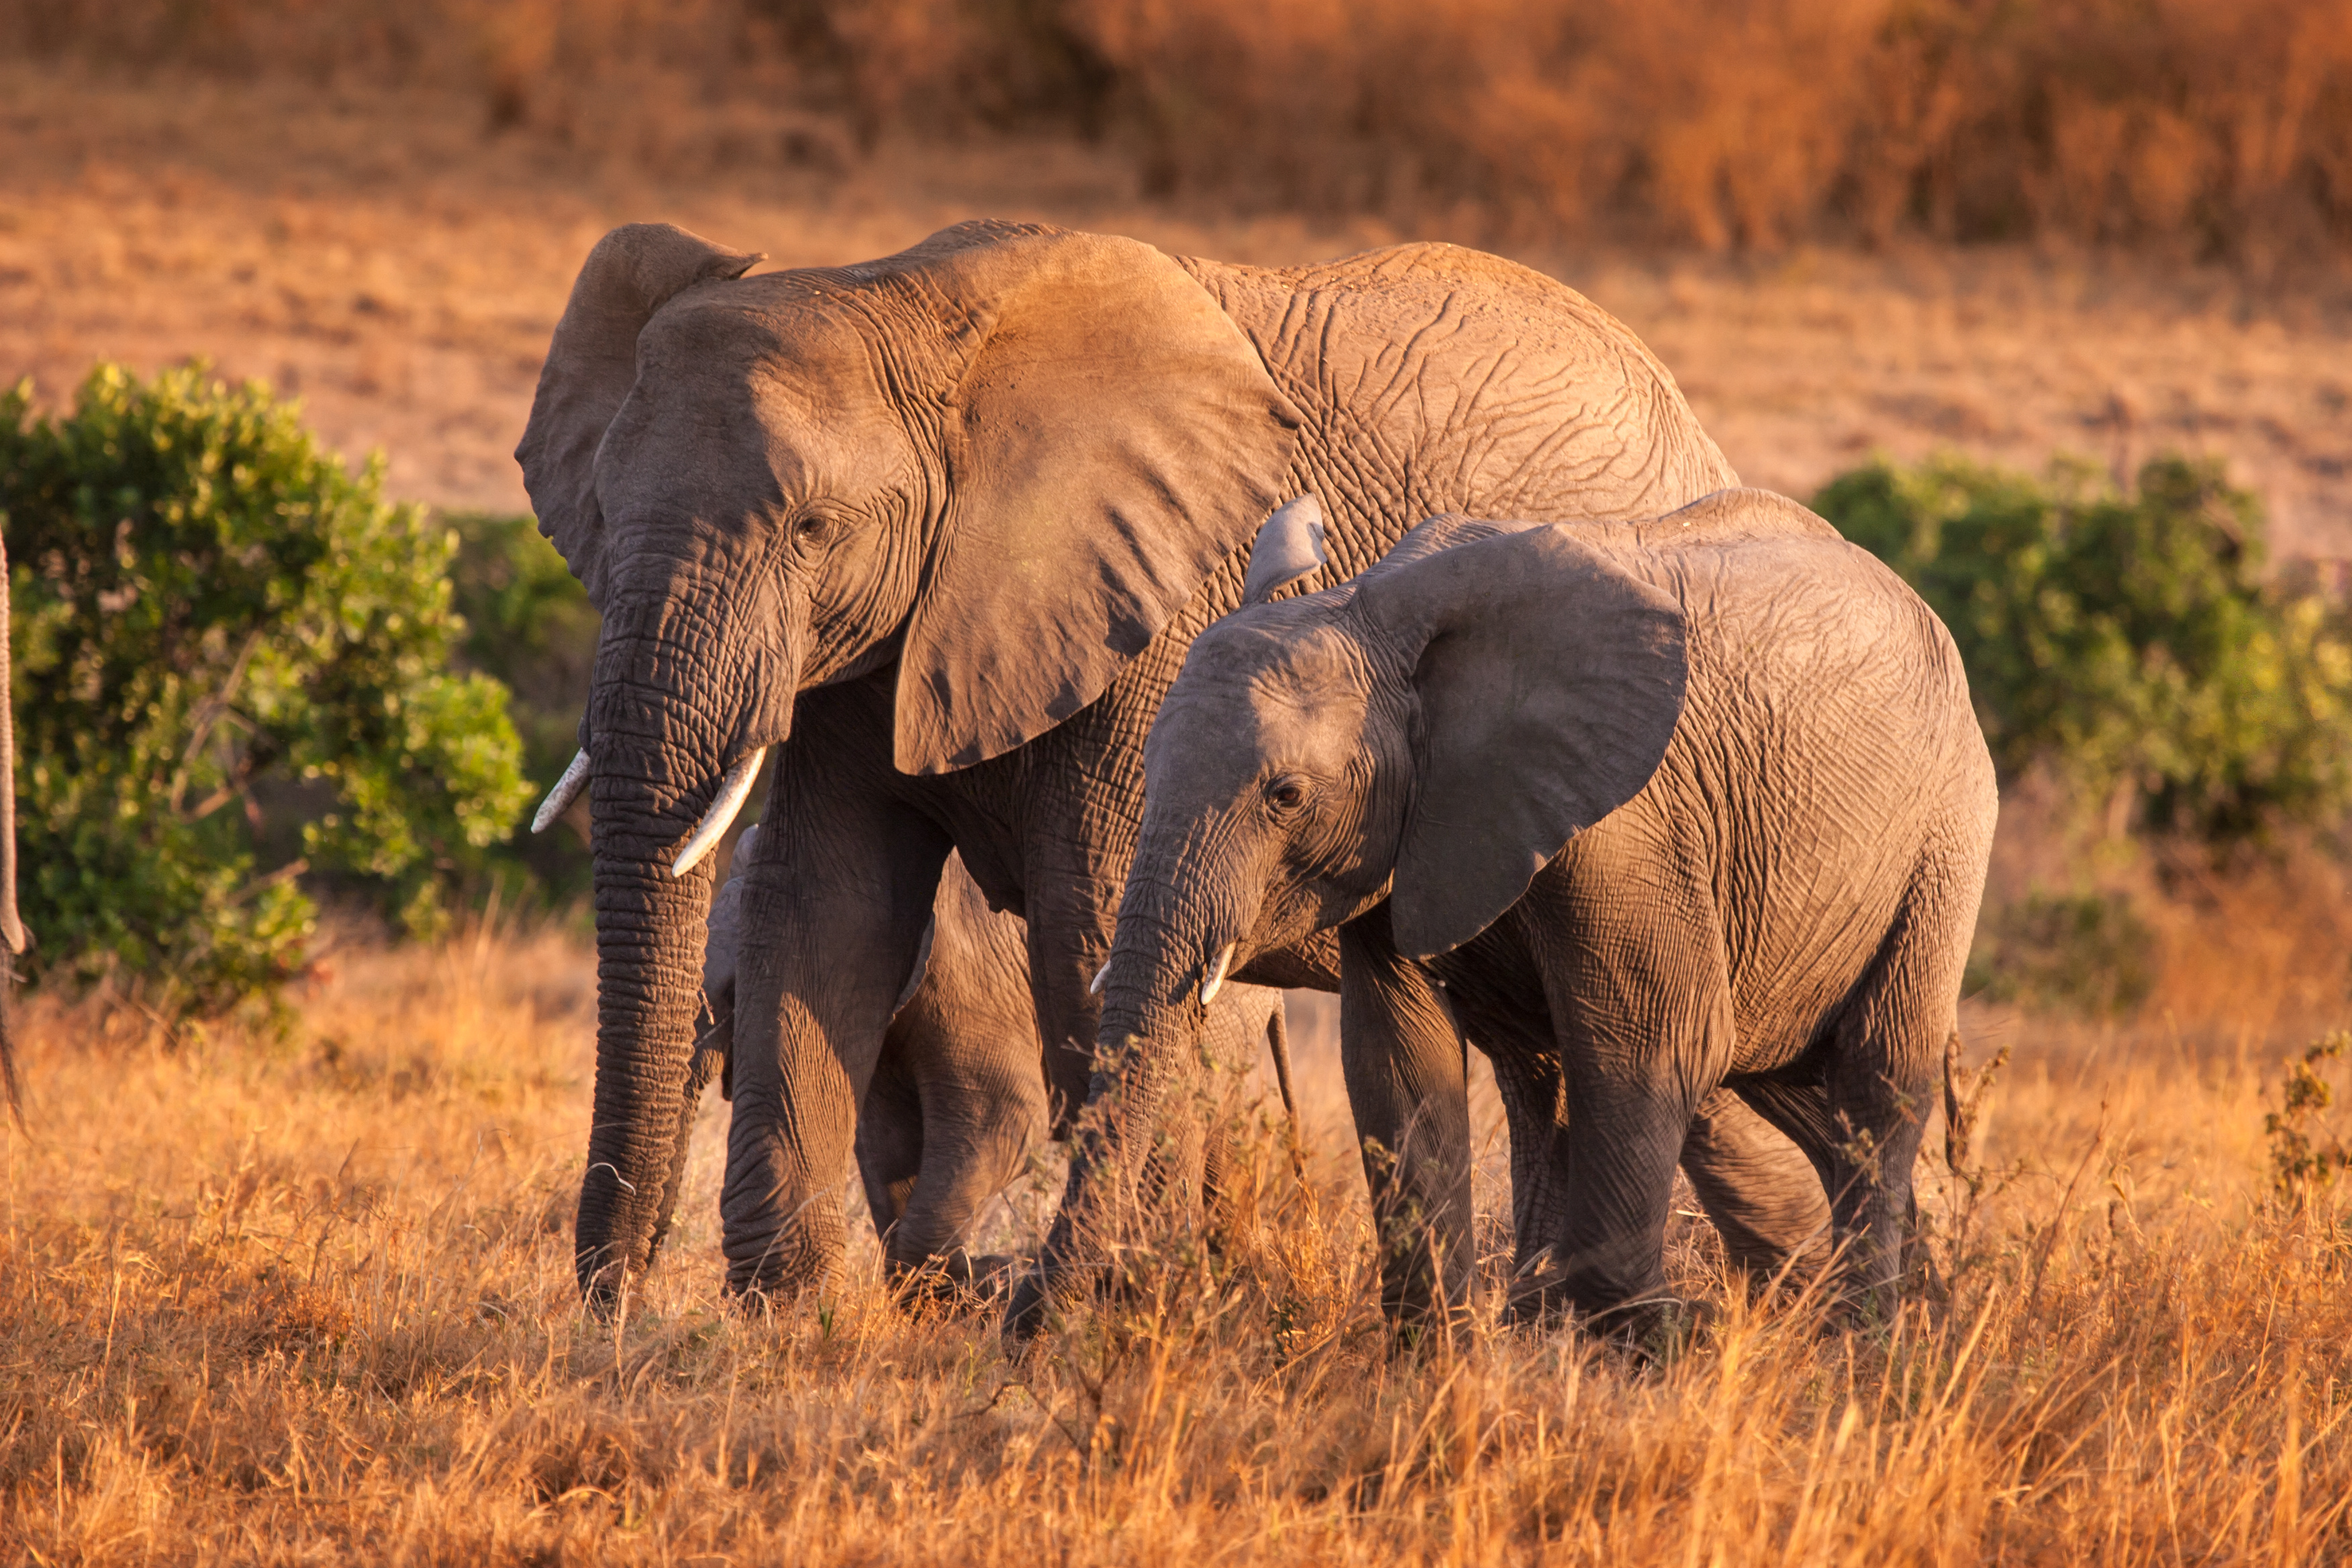elephant: (511, 222, 1736, 1346), (1015, 483, 1997, 1400)
